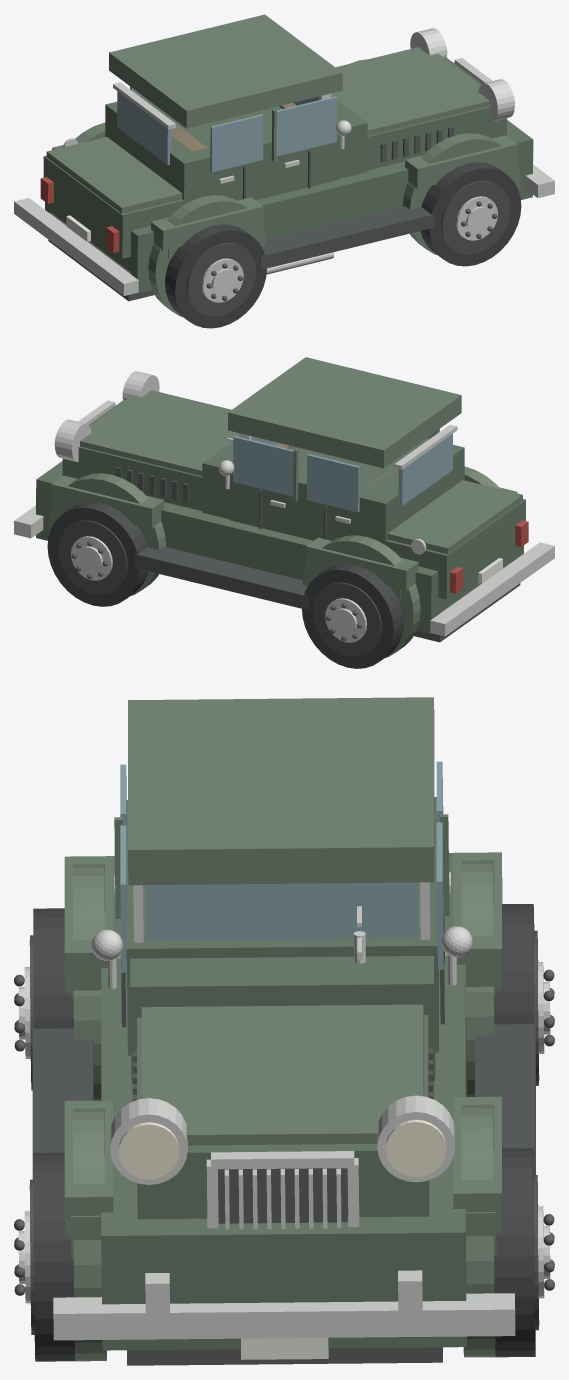
The picture shows the model from 3 angles, top to bottom: view 1: azimuth 30°, elevation 25°; view 2: azimuth 150°, elevation 25°; view 3: azimuth 270°, elevation 25°; orthographic projection. The views are drawn at different scales.
Visible parts, largest first — view 1: roof, passenger_cabin_lower, lower_body, hood_top, trunk_lid, right_running_board, rear_tire_-1, rear_trunk, front_tire_-1, hood, rear_bumper, front_side_glass_-1 (+20 smaller); view 2: roof, passenger_cabin_lower, lower_body, hood_top, trunk_lid, left_running_board, rear_tire_1, rear_trunk, front_tire_1, hood, rear_bumper, front_side_glass_1 (+18 smaller); view 3: roof, lower_body, hood_top, front_bumper, cowl, windshield_glass, hood, passenger_cabin_lower, front_tire_1, front_tire_-1, right_running_board, left_running_board (+25 smaller).
Boxes of the visible parts, left/top/right/bottom form: roof: left=109, top=14, right=342, bottom=128; passenger_cabin_lower: left=105, top=95, right=339, bottom=204; lower_body: left=45, top=120, right=533, bottom=293; hood_top: left=331, top=47, right=489, bottom=135; trunk_lid: left=46, top=137, right=182, bottom=213; right_running_board: left=260, top=206, right=433, bottom=269; rear_tire_-1: left=165, top=224, right=266, bottom=328; rear_trunk: left=43, top=155, right=183, bottom=258; front_tire_-1: left=420, top=162, right=521, bottom=266; hood: left=367, top=57, right=506, bottom=170; rear_bumper: left=14, top=198, right=138, bottom=295; front_side_glass_-1: left=276, top=96, right=336, bottom=156; roof: left=228, top=357, right=461, bottom=468; passenger_cabin_lower: left=230, top=438, right=464, bottom=544; lower_body: left=36, top=461, right=523, bottom=634; hood_top: left=80, top=390, right=239, bottom=475; trunk_lid: left=387, top=480, right=522, bottom=554; left_running_board: left=135, top=546, right=308, bottom=609; rear_tire_1: left=302, top=564, right=403, bottom=668; rear_trunk: left=382, top=499, right=525, bottom=599; front_tire_1: left=47, top=502, right=148, bottom=606; hood: left=62, top=400, right=202, bottom=510; rear_bumper: left=430, top=542, right=554, bottom=636; front_side_glass_1: left=233, top=436, right=293, bottom=496; roof: left=128, top=697, right=434, bottom=885; lower_body: left=101, top=853, right=466, bottom=1350; hood_top: left=141, top=1004, right=423, bottom=1145; front_bumper: left=53, top=1293, right=515, bottom=1340; cowl: left=130, top=956, right=435, bottom=1083; windshield_glass: left=145, top=882, right=418, bottom=940; hood: left=137, top=1015, right=429, bottom=1219; passenger_cabin_lower: left=126, top=797, right=438, bottom=1055; front_tire_1: left=490, top=1148, right=535, bottom=1357; front_tire_-1: left=33, top=1152, right=90, bottom=1361; right_running_board: left=32, top=1024, right=93, bottom=1179; left_running_board: left=475, top=1019, right=535, bottom=1174.
Bounding box in the file's own units: 4.02 × 1.82 × 2.23.
